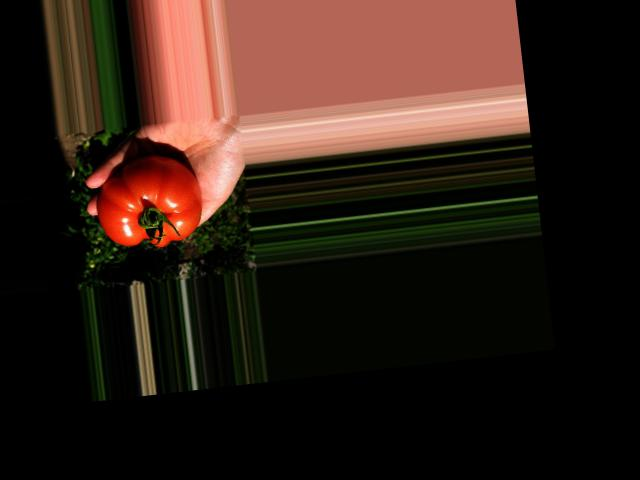tomato: (91, 151, 205, 253)
